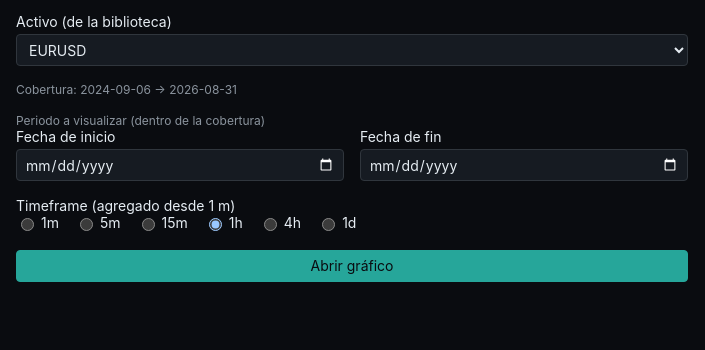
ChartSelector (TASK-026/TASK-UI-030, SCR-003) › warns the exact useful range for a partial asset
Select "XAUUSD" in the dropdown labelled "Activo (de la biblioteca)" at x=352, y=50, box [16,34,688,66]
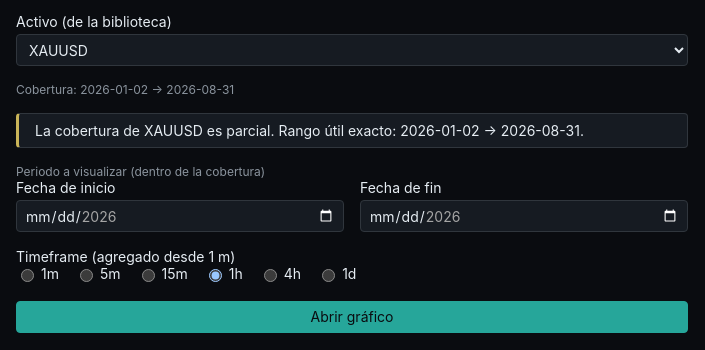
Check: the text "Rango útil exacto: 2026-01-02 → 2026-08-31" is shown, box [35,122,584,139]
